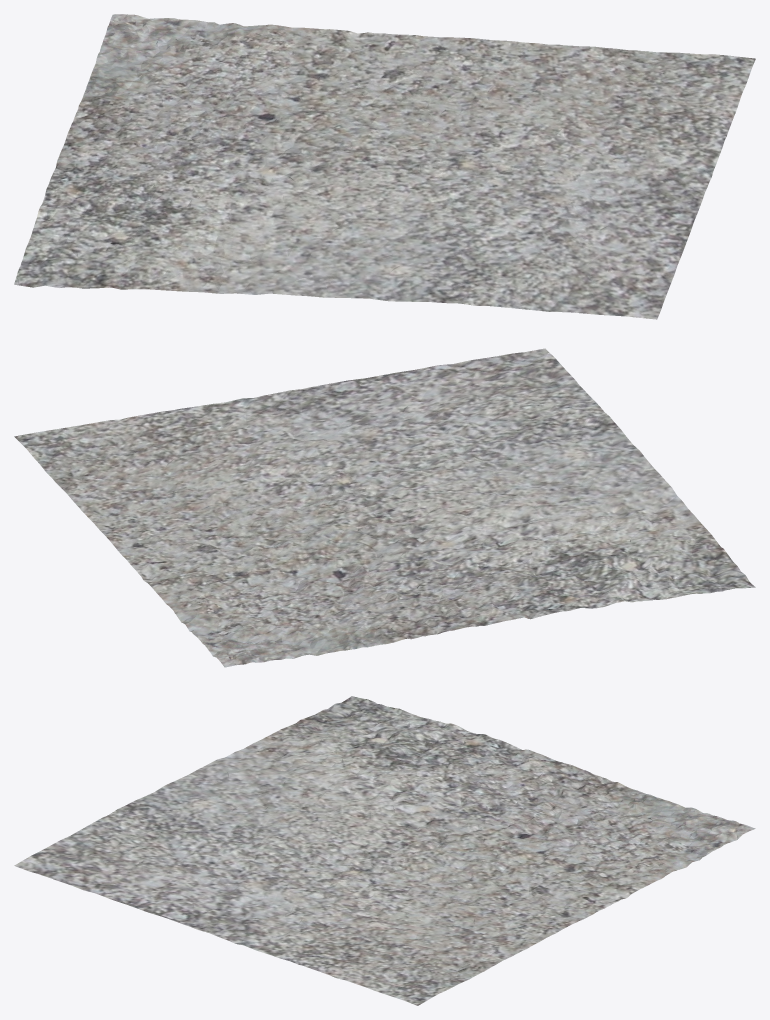
File: tile_3_3.obj
3 renders of one model, top to bottom at view 1: azimuth 30°, elevation 25°; view 2: azimuth 150°, elevation 25°; view 3: azimuth 270°, elevation 25°, orthographic. The views are drawn at different scales.
Parts seen in each view (by area): view 1: texture_0; view 2: texture_0; view 3: texture_0.
Boxes of the visible parts, x1,y1,x2,y2 form: texture_0: [14, 14, 755, 319]; texture_0: [14, 348, 755, 667]; texture_0: [14, 696, 755, 1005].
Bounding box in the file's own units: 0.5079 × 0.00837 × 0.5061.
Materials: 1 (1 with a texture image).
